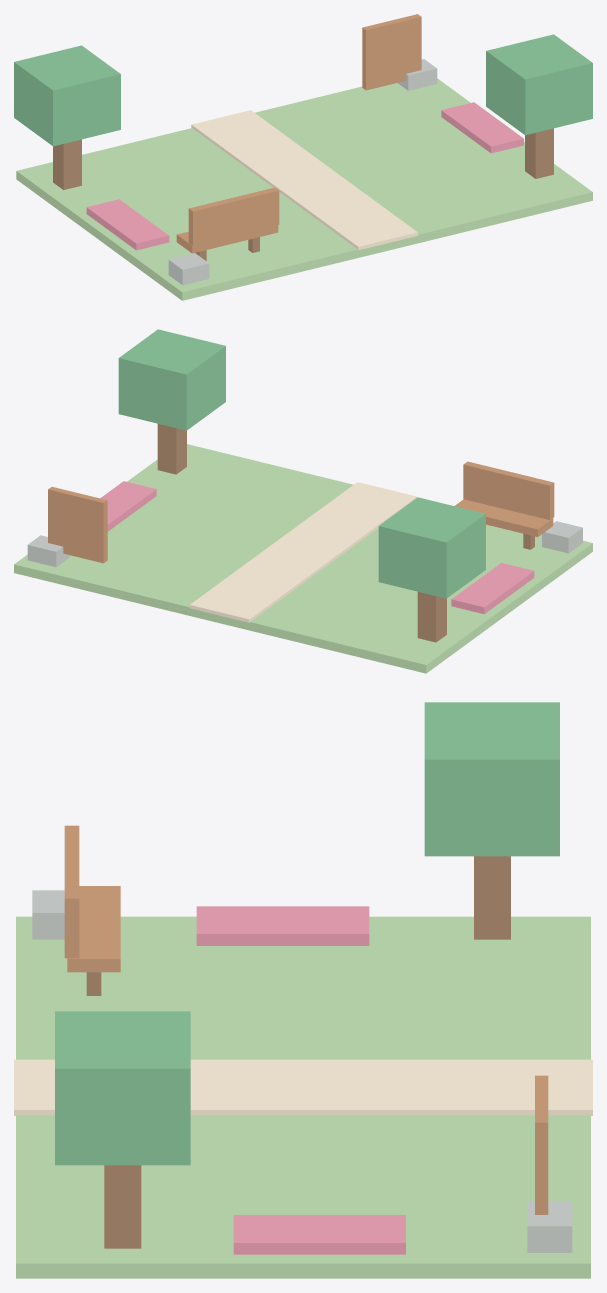
File: park-small.gltf
3 renders of one model, top to bottom at view 1: azimuth 30°, elevation 25°; view 2: azimuth 150°, elevation 25°; view 3: azimuth 270°, elevation 25°, orthographic. The views are drawn at different scales.
Parts seen in each view (by area): view 1: walkable_ground, park_path, tree_left_crown, tree_right_crown, park_sign, bench_back, flower_bed_left, flower_bed_right, tree_left_trunk, tree_right_trunk, stone_left, bench_seat (+1 smaller); view 2: walkable_ground, park_path, tree_right_crown, tree_left_crown, park_sign, bench_back, flower_bed_left, bench_seat, flower_bed_right, tree_right_trunk, tree_left_trunk, stone_left (+1 smaller); view 3: walkable_ground, park_path, tree_right_crown, tree_left_crown, flower_bed_left, flower_bed_right, bench_seat, tree_right_trunk, tree_left_trunk, stone_right, bench_back, park_sign (+1 smaller).
Part boxes in pixels (<box>): walkable_ground: <box>16,78,592,300</box>; park_path: <box>191,110,417,250</box>; tree_left_crown: <box>14,45,120,146</box>; tree_right_crown: <box>486,34,592,135</box>; park_sign: <box>362,14,421,90</box>; bench_back: <box>188,187,279,245</box>; flower_bed_left: <box>86,199,169,250</box>; flower_bed_right: <box>441,102,523,153</box>; tree_left_trunk: <box>53,139,81,189</box>; tree_right_trunk: <box>525,128,553,178</box>; stone_left: <box>168,253,209,285</box>; bench_seat: <box>176,225,278,253</box>; walkable_ground: <box>14,444,592,673</box>; park_path: <box>189,482,417,622</box>; tree_right_crown: <box>118,329,225,430</box>; tree_left_crown: <box>378,497,485,598</box>; park_sign: <box>48,487,107,563</box>; bench_back: <box>463,461,554,519</box>; flower_bed_left: <box>451,563,534,614</box>; bench_seat: <box>454,499,553,536</box>; flower_bed_right: <box>100,481,156,531</box>; tree_right_trunk: <box>157,424,186,474</box>; tree_left_trunk: <box>417,592,446,642</box>; stone_left: <box>542,521,582,553</box>; walkable_ground: <box>16,916,590,1278</box>; park_path: <box>14,1059,592,1115</box>; tree_right_crown: <box>55,1011,190,1165</box>; tree_left_crown: <box>424,702,559,856</box>; flower_bed_left: <box>196,906,369,945</box>; flower_bed_right: <box>233,1215,405,1254</box>; bench_seat: <box>67,886,120,972</box>; tree_right_trunk: <box>104,1165,141,1248</box>; tree_left_trunk: <box>474,856,510,939</box>; stone_right: <box>527,1202,572,1252</box>; bench_back: <box>64,825,79,958</box>; park_sign: <box>535,1075,548,1214</box>.
Bounding box in the file's own units: 10.55 × 2.95 × 7.05.
